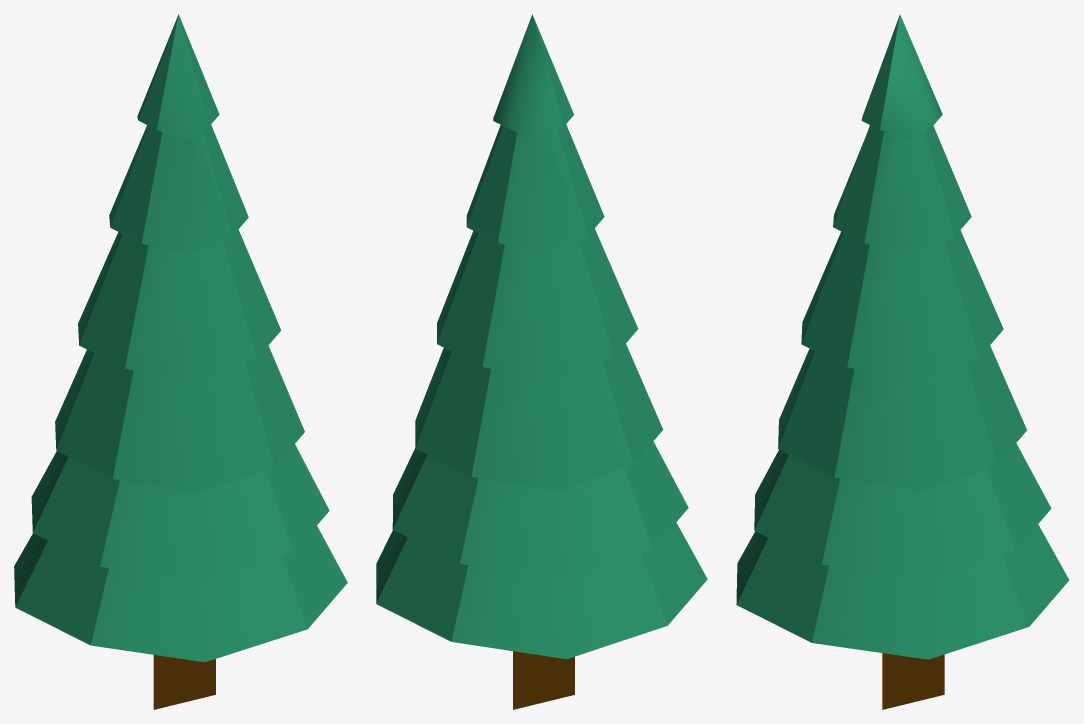
The model's file is pine.gltf.
The picture shows the model from 3 angles, left to right: view 1: azimuth 30°, elevation 25°; view 2: azimuth 150°, elevation 25°; view 3: azimuth 270°, elevation 25°; orthographic projection.
Visible parts, largest first — view 1: Pine; view 2: Pine; view 3: Pine.
Boxes of the visible parts, left/top/right/bottom form: Pine: left=14, top=14, right=347, bottom=709; Pine: left=376, top=14, right=707, bottom=709; Pine: left=736, top=14, right=1069, bottom=709.
Size of the model in its own units: 3.25 by 7.25 by 3.21.
Materials: 1 (1 with a texture image).
